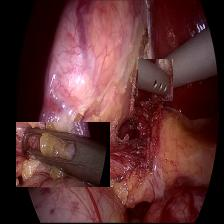Grasper: (16, 122, 110, 187)
Irrigator: (138, 59, 173, 101)
